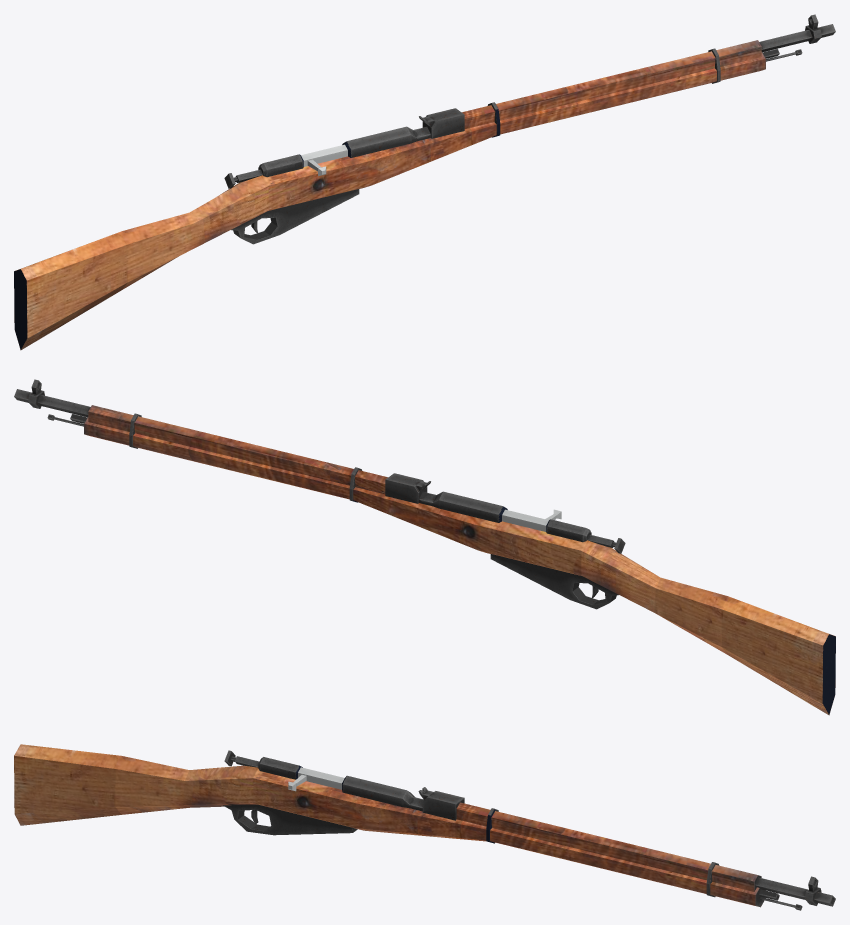
The model's file is moist nugget.glb.
3 views of the same model, one above another, from view 1: azimuth 30°, elevation 25°; view 2: azimuth 150°, elevation 25°; view 3: azimuth 330°, elevation 25° (orthographic).
Parts seen in each view (by area): view 1: mesh; view 2: mesh; view 3: mesh.
Boxes of the visible parts, <box> form: mesh: <box>14,14,835,350</box>; mesh: <box>14,379,835,715</box>; mesh: <box>14,744,835,910</box>.
Size of the model in its own units: 4.66 by 0.7803 by 0.2431.
Materials: 1 (1 with a texture image).
